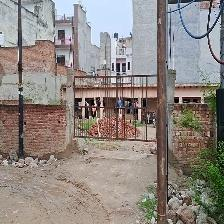Obstacle: (23, 69, 156, 160), (157, 0, 167, 223), (18, 0, 23, 160)
Road: (0, 153, 156, 223)
